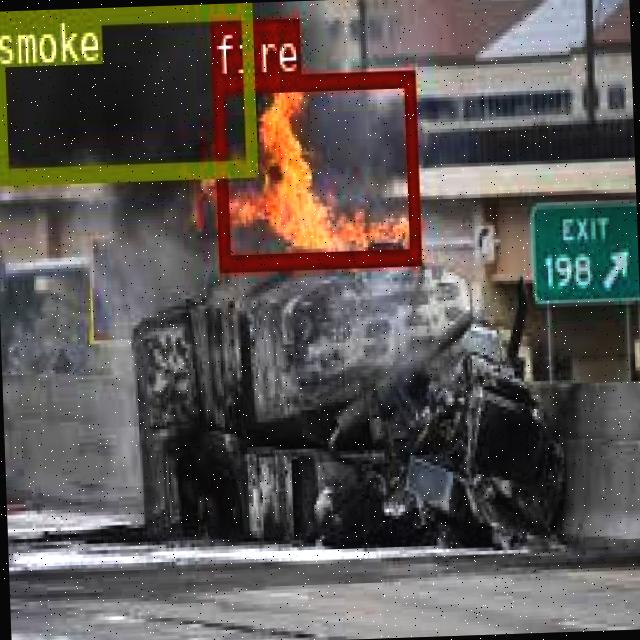fire: (210, 66, 418, 268)
smoke: (0, 2, 255, 179)
